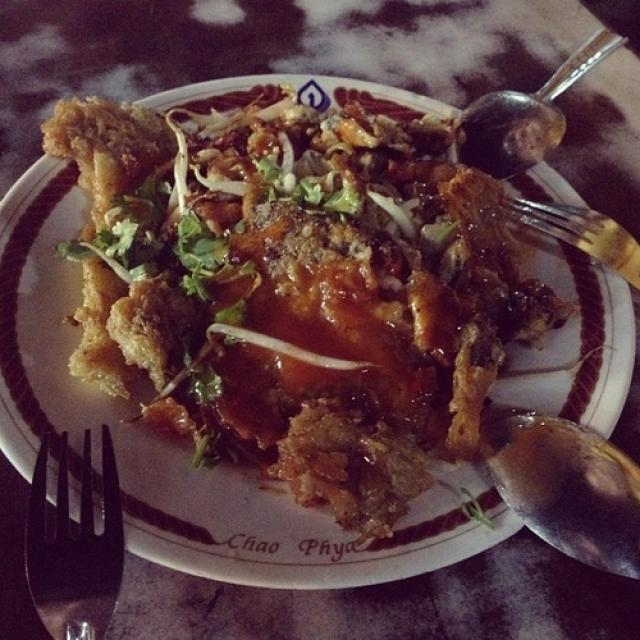炸货点心: (9, 37, 631, 616)
蛋糕甜品: (9, 37, 631, 616)
